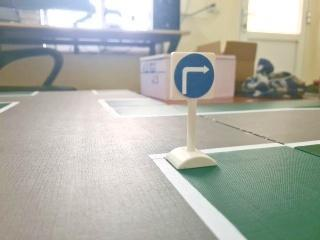right: (163, 46, 219, 100)
